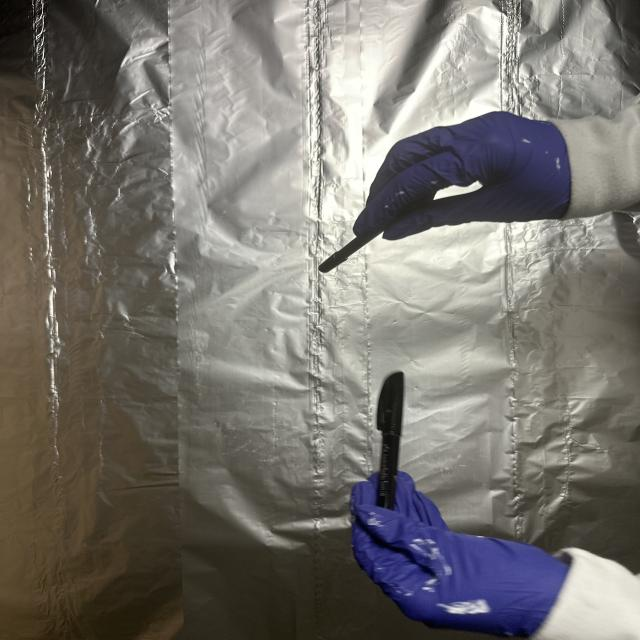gloves_contaminated: (352, 469, 568, 636), (354, 113, 570, 239)
